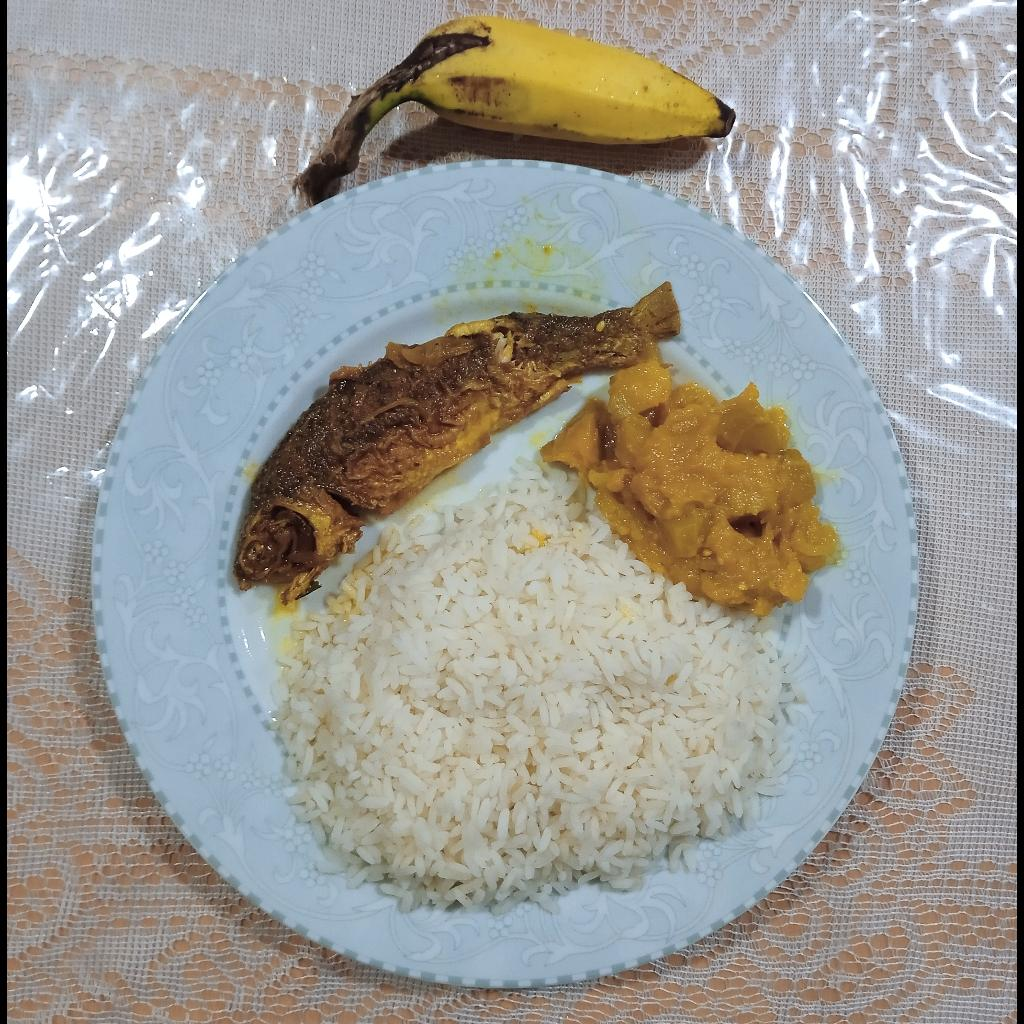banana: (293, 14, 737, 207)
fish: (236, 282, 683, 601)
kumra-vaji: (538, 362, 844, 614)
rice: (269, 454, 811, 914)
